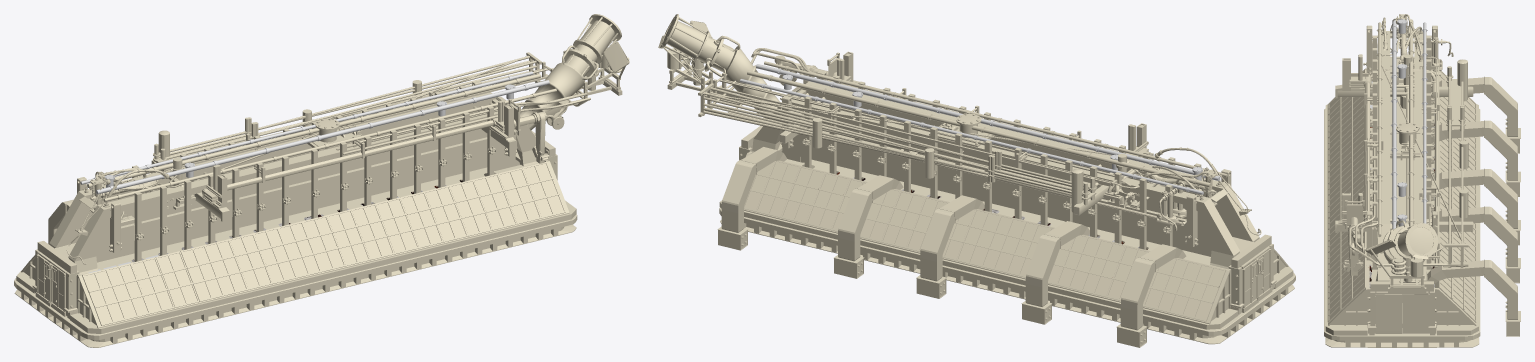
3 views of the same model, side by side, from view 1: azimuth 30°, elevation 25°; view 2: azimuth 150°, elevation 25°; view 3: azimuth 270°, elevation 25° (orthographic). The views are drawn at different scales.
Parts seen in each view (by area): view 1: Plane.019, b5729881_2de0_421f_aee5_f8e33ea76d0b, tripo_node_188925cf.004, Cube.011, Cube.001, Cube.004, Long_Service_Pipe_-0.30, Long_Service_Pipe_+0.34, Long_Service_Pipe_-0.86, Long_Service_Pipe_+0.86, Plane.053, Plane.060 (+21 smaller); view 2: b5729881_2de0_421f_aee5_f8e33ea76d0b, Plane.019, tripo_node_188925cf.004, Cube.011, Cube.003, tripo_node_188925cf.005, tripo_node_188925cf.007, tripo_node_188925cf.008, tripo_node_188925cf.003, tripo_node_188925cf.002, Long_Service_Pipe_+0.34, Long_Service_Pipe_-0.30 (+25 smaller); view 3: b5729881_2de0_421f_aee5_f8e33ea76d0b, Plane.019, tripo_node_188925cf.004, Cube.011, tripo_node_188925cf.008, tripo_node_188925cf.002, Plane.065, tripo_node_188925cf.005, tripo_node_188925cf.007, tripo_node_188925cf.003, Plane.048, Plane.049 (+41 smaller).
Boxes of the visible parts, x1=… form: Plane.019: x1=16, y1=80, x2=576, y2=333; b5729881_2de0_421f_aee5_f8e33ea76d0b: x1=95, y1=14, x2=629, y2=223; tripo_node_188925cf.004: x1=14, y1=214, x2=577, y2=347; Cube.011: x1=107, y1=85, x2=495, y2=274; Cube.001: x1=121, y1=137, x2=499, y2=243; Cube.004: x1=81, y1=163, x2=538, y2=274; Long_Service_Pipe_-0.30: x1=96, y1=80, x2=549, y2=194; Long_Service_Pipe_+0.34: x1=87, y1=73, x2=540, y2=187; Long_Service_Pipe_-0.86: x1=103, y1=88, x2=556, y2=201; Long_Service_Pipe_+0.86: x1=80, y1=71, x2=533, y2=184; Plane.053: x1=82, y1=269, x2=125, y2=327; Plane.060: x1=155, y1=251, x2=199, y2=309; b5729881_2de0_421f_aee5_f8e33ea76d0b: x1=658, y1=14, x2=1192, y2=230; Plane.019: x1=719, y1=70, x2=1293, y2=329; tripo_node_188925cf.004: x1=719, y1=207, x2=1295, y2=344; Cube.011: x1=802, y1=75, x2=1201, y2=249; Cube.003: x1=799, y1=128, x2=1186, y2=236; tripo_node_188925cf.005: x1=916, y1=195, x2=984, y2=298; tripo_node_188925cf.007: x1=834, y1=175, x2=903, y2=278; tripo_node_188925cf.008: x1=717, y1=147, x2=787, y2=250; tripo_node_188925cf.003: x1=1116, y1=244, x2=1186, y2=347; tripo_node_188925cf.002: x1=1021, y1=221, x2=1089, y2=324; Long_Service_Pipe_+0.34: x1=747, y1=70, x2=1211, y2=187; Long_Service_Pipe_-0.30: x1=756, y1=64, x2=1220, y2=180; b5729881_2de0_421f_aee5_f8e33ea76d0b: x1=1335, y1=37, x2=1473, y2=292; Plane.019: x1=1325, y1=25, x2=1478, y2=335; tripo_node_188925cf.004: x1=1324, y1=108, x2=1480, y2=347; Cube.011: x1=1369, y1=36, x2=1434, y2=281; tripo_node_188925cf.008: x1=1427, y1=259, x2=1520, y2=336; tripo_node_188925cf.002: x1=1431, y1=120, x2=1520, y2=196; Plane.065: x1=1328, y1=288, x2=1476, y2=325; tripo_node_188925cf.005: x1=1431, y1=168, x2=1520, y2=245; tripo_node_188925cf.007: x1=1431, y1=206, x2=1520, y2=283; tripo_node_188925cf.003: x1=1431, y1=76, x2=1520, y2=153; Plane.048: x1=1375, y1=294, x2=1402, y2=334; Plane.049: x1=1402, y1=293, x2=1429, y2=334.
Size of the model in its own units: 2010 by 541 by 614.
Materials: 3 (2 with a texture image).
